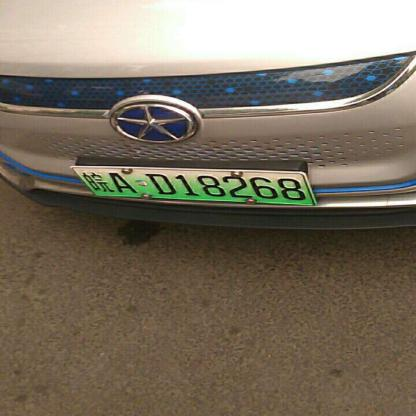lp: (71, 168, 316, 203)
